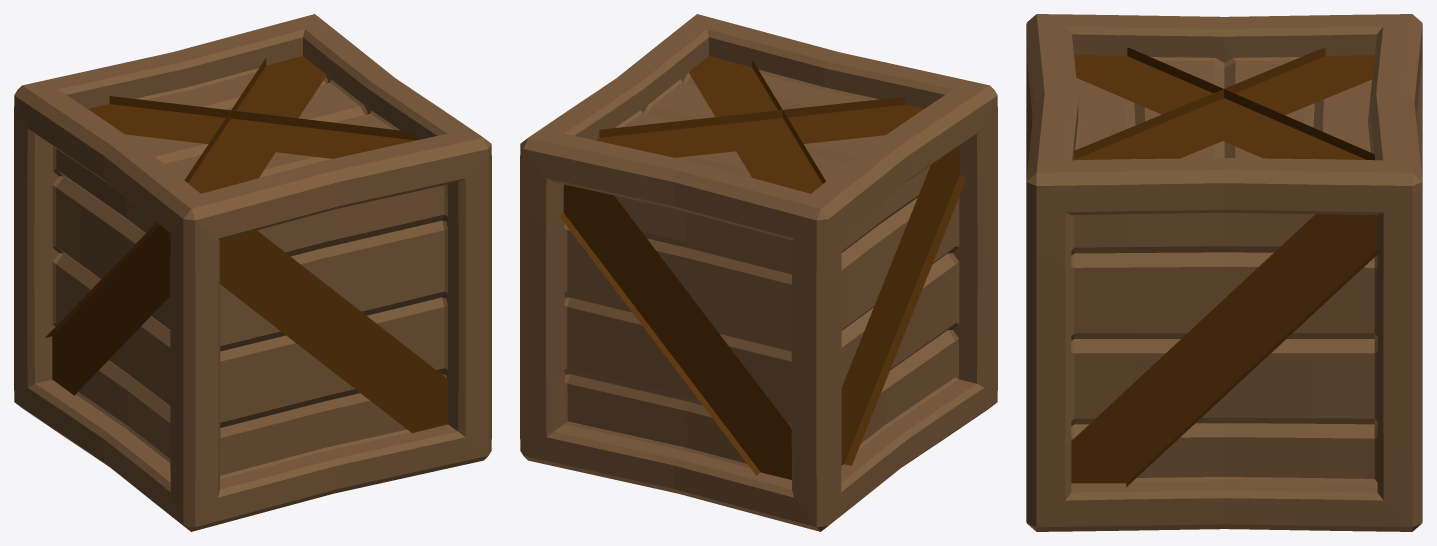
The model's file is woodbox.fbx.
The picture shows the model from 3 angles, left to right: view 1: azimuth 30°, elevation 25°; view 2: azimuth 150°, elevation 25°; view 3: azimuth 270°, elevation 25°; orthographic projection. The views are drawn at different scales.
Visible parts, largest first — view 1: Plane.006; view 2: Plane.006; view 3: Plane.006.
Boxes of the visible parts, x1,y1,x2,y2 form: Plane.006: (14, 14, 491, 531); Plane.006: (520, 14, 997, 531); Plane.006: (1026, 14, 1422, 531).
Size of the model in its own units: 1013 by 1013 by 1013.
